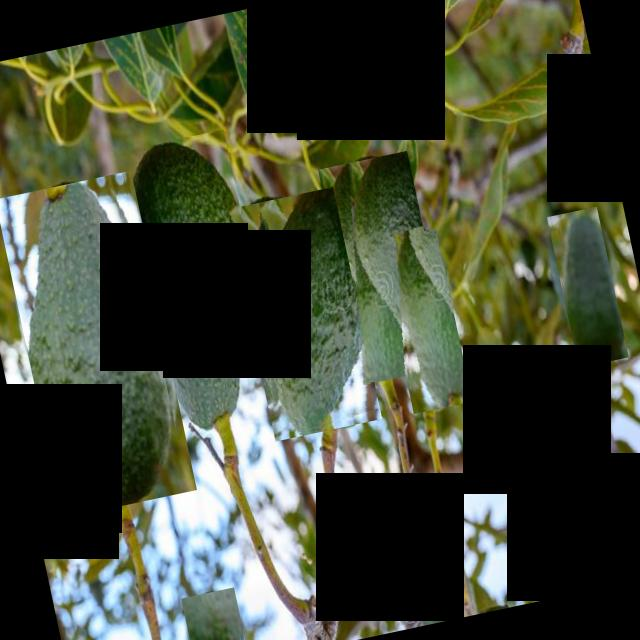avocado: (0, 170, 196, 517), (116, 129, 284, 439), (226, 187, 382, 440), (318, 150, 452, 384), (377, 228, 472, 414), (546, 206, 628, 367), (180, 586, 249, 640)
